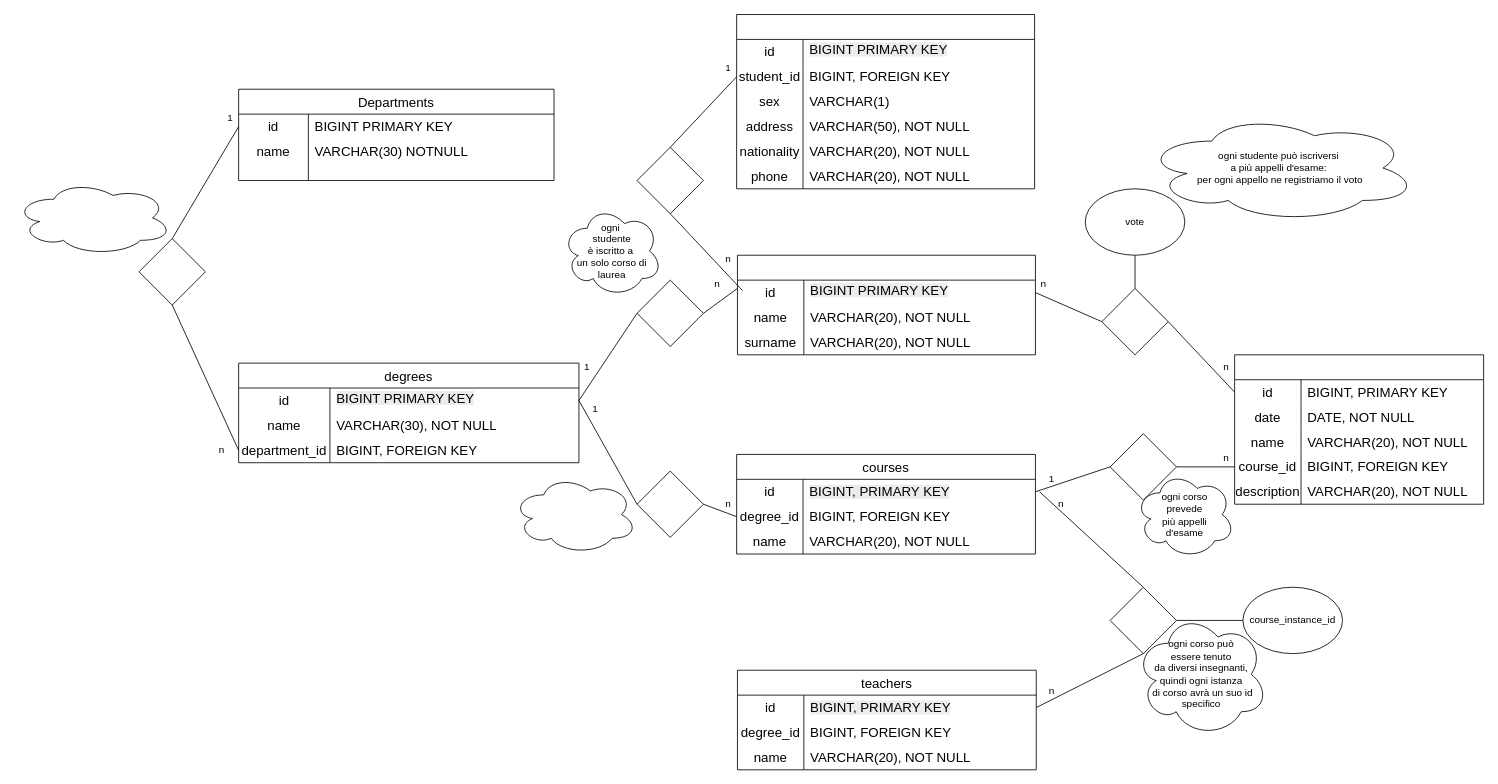
The diagram is 1498 pixels wide and 784 high, and some of its shapes have lost their labels. The box of each missing label's shape, as (x1, y1, x2, y2) in pixels:
exams: (1234, 354, 1484, 504)
ogni corso di laurea prevede diversi corsi: (512, 474, 637, 554)
ogni dipartimento offre più corsi di laurea: (14, 180, 172, 255)
student_details: (736, 14, 1035, 189)
students: (737, 254, 1035, 355)
